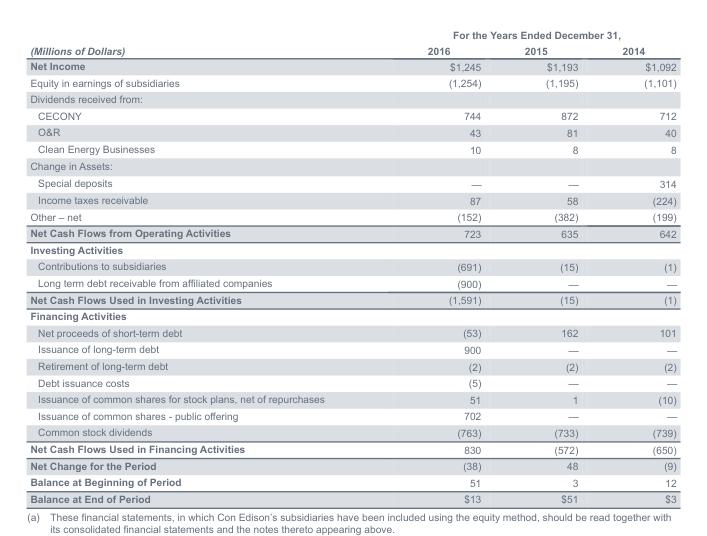table: (29, 29, 676, 504)
table column: (29, 29, 375, 504), (375, 29, 502, 504), (502, 29, 599, 504), (599, 29, 676, 504)
table column header: (29, 29, 676, 57)
table projected row header: (29, 157, 676, 174), (29, 307, 676, 324), (29, 90, 676, 106), (29, 241, 676, 257)
table row: (29, 57, 676, 74), (29, 106, 676, 123), (29, 123, 676, 140), (29, 140, 676, 157), (29, 157, 676, 174), (29, 174, 676, 191), (29, 191, 676, 208), (29, 224, 676, 241), (29, 257, 676, 274), (29, 274, 676, 291), (29, 307, 676, 324), (29, 340, 676, 357), (29, 357, 676, 374), (29, 390, 676, 407), (29, 423, 676, 440), (29, 440, 676, 457), (29, 473, 676, 490), (29, 74, 676, 90), (29, 90, 676, 106), (29, 208, 676, 224), (29, 241, 676, 257), (29, 291, 676, 307), (29, 324, 676, 340), (29, 374, 676, 390), (29, 407, 676, 423), (29, 457, 676, 473), (29, 42, 676, 57), (29, 490, 676, 504), (29, 29, 676, 42)
table spanning cell: (29, 29, 375, 57), (375, 29, 676, 42)
